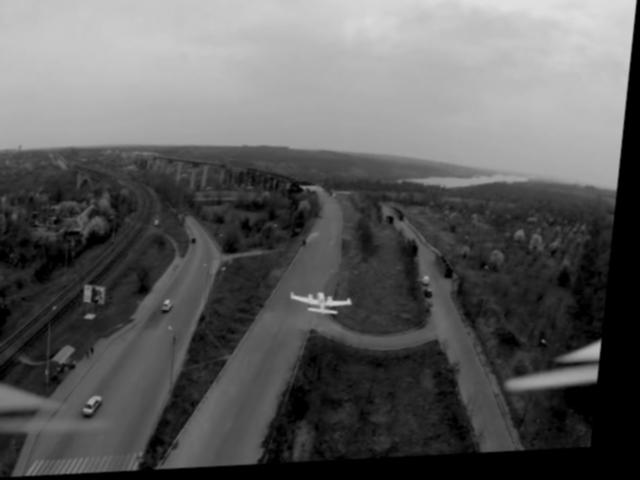hedef: (274, 280, 376, 332)
